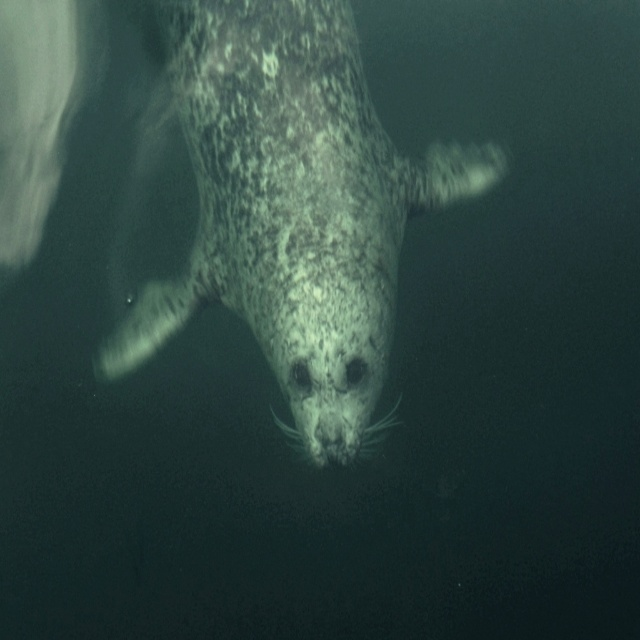Harbor seal: (93, 0, 513, 474)
